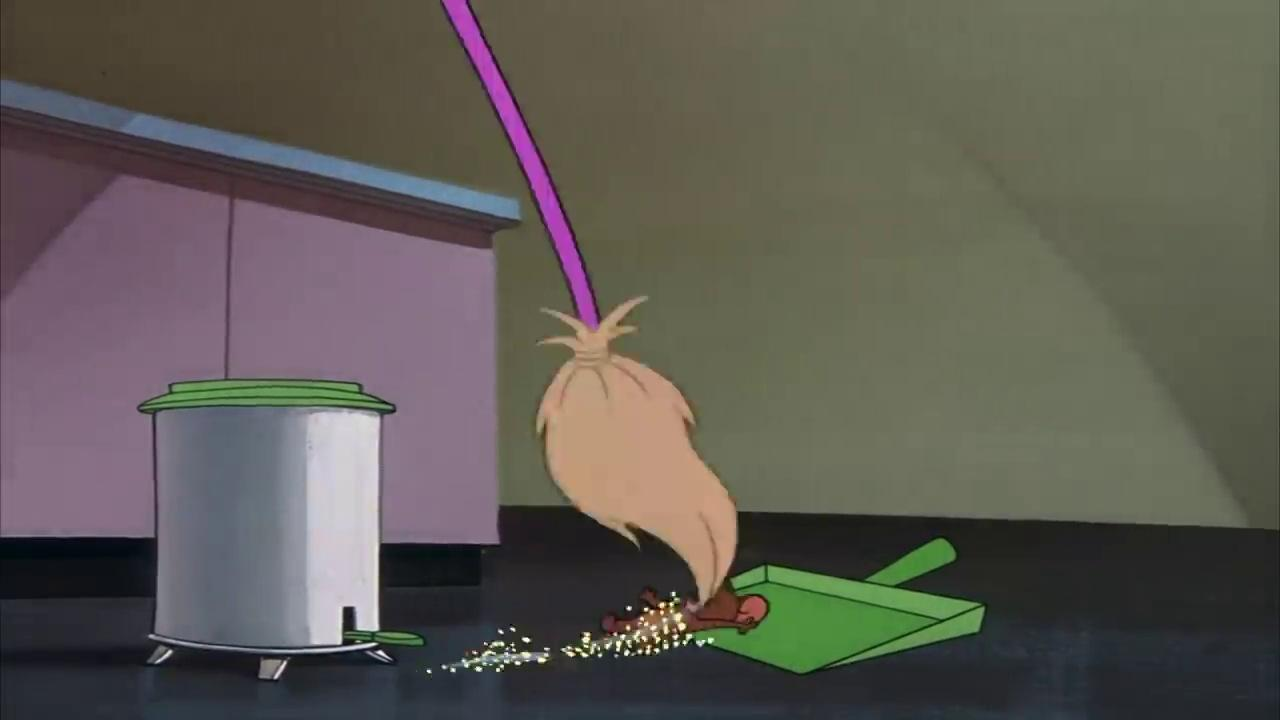Jerry: (598, 578, 770, 652)
